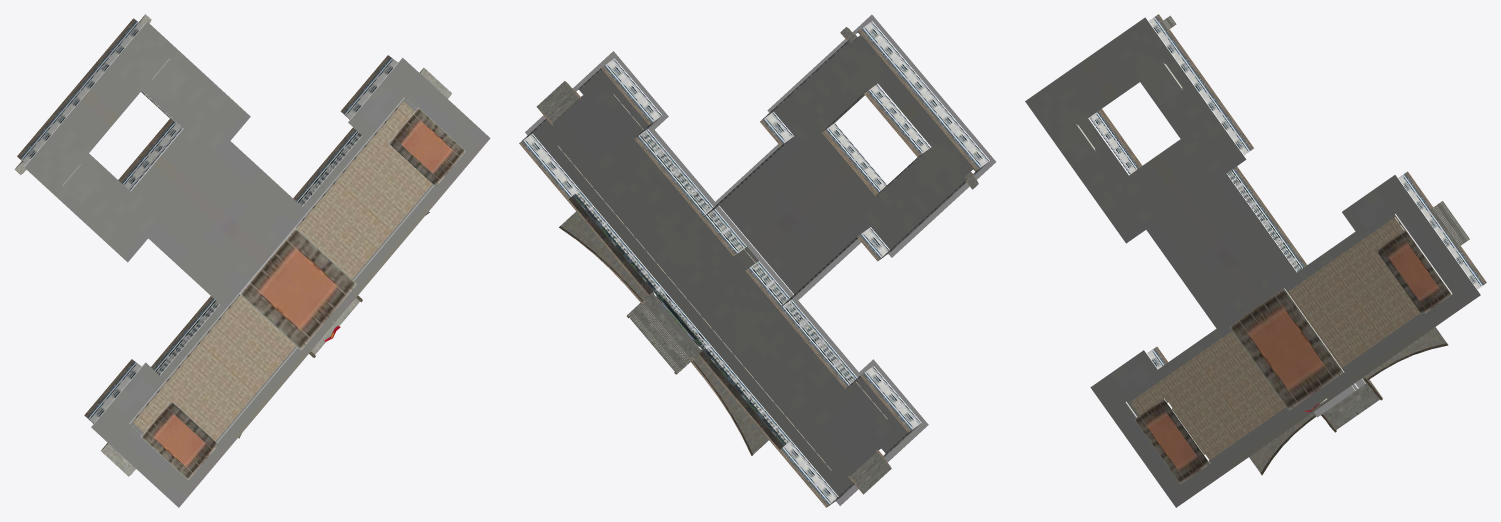
The picture shows the model from 3 angles, left to right: view 1: azimuth 30°, elevation 25°; view 2: azimuth 150°, elevation 25°; view 3: azimuth 330°, elevation 25°; orthographic projection. The views are drawn at different scales.
Parts seen in each view (by area): view 1: 59b11099d7bddc8e28b6dd24; view 2: 59b11099d7bddc8e28b6dd24; view 3: 59b11099d7bddc8e28b6dd24.
Part boxes in pixels (x1,y1,x2,y2): 59b11099d7bddc8e28b6dd24: (14, 14, 490, 507); 59b11099d7bddc8e28b6dd24: (519, 14, 996, 507); 59b11099d7bddc8e28b6dd24: (1025, 14, 1486, 507).
Size of the model in its own units: 360 by 365 by 30.
1 material, 1 textured.
